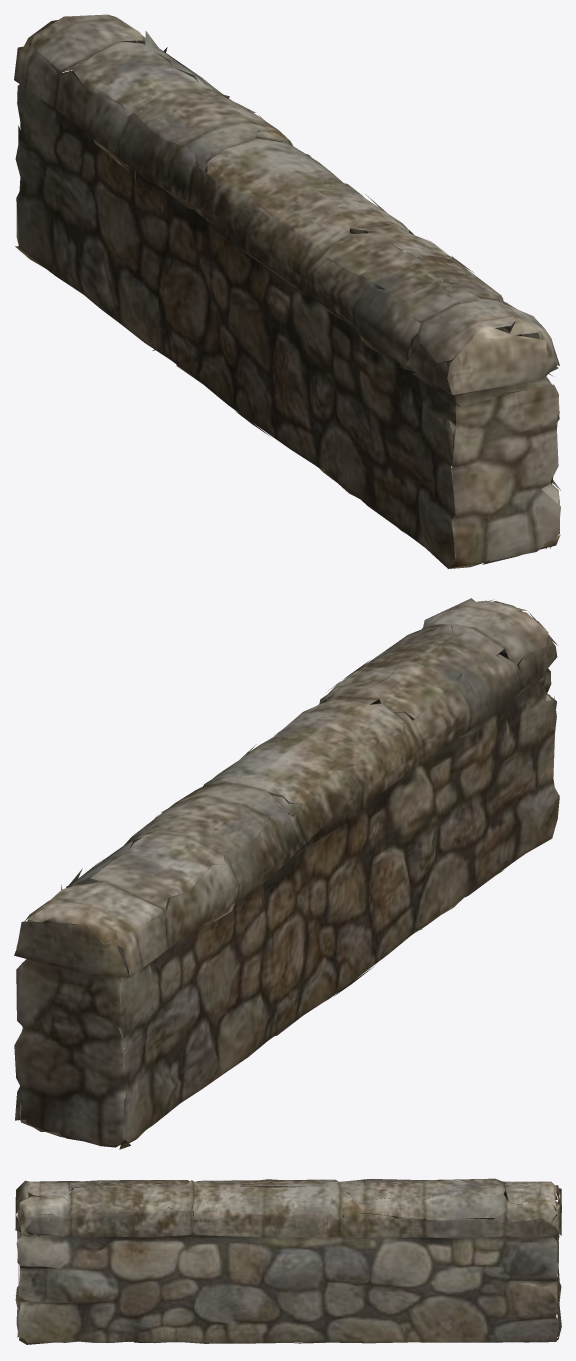
File: serra_leitplanke.glb
The picture shows the model from 3 angles, top to bottom: view 1: azimuth 30°, elevation 25°; view 2: azimuth 150°, elevation 25°; view 3: azimuth 270°, elevation 25°; orthographic projection. The views are drawn at different scales.
Visible parts, largest first — view 1: Prop; view 2: Prop; view 3: Prop.
Part boxes in pixels (box(x1,y1,x2,y2)): Prop: box(14, 14, 560, 568); Prop: box(14, 598, 559, 1149); Prop: box(15, 1178, 561, 1344).
Size of the model in its own units: 0.5522 by 1.03 by 3.5.
Materials: 1 (1 with a texture image).
